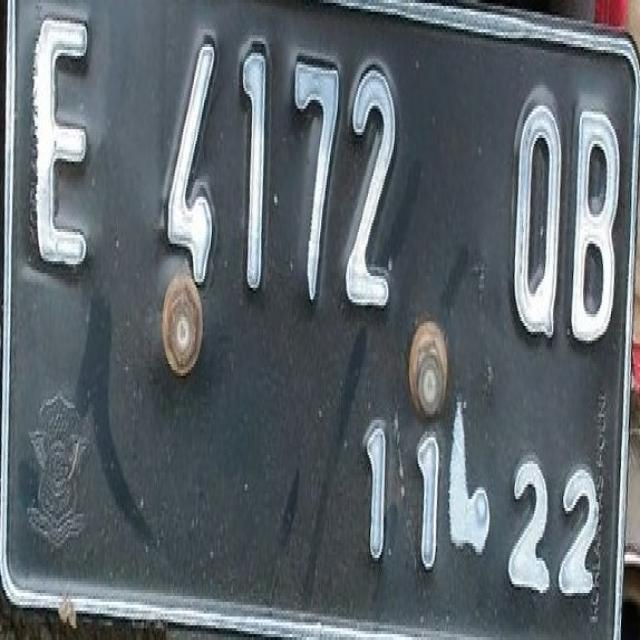plate: (3, 0, 636, 628)
